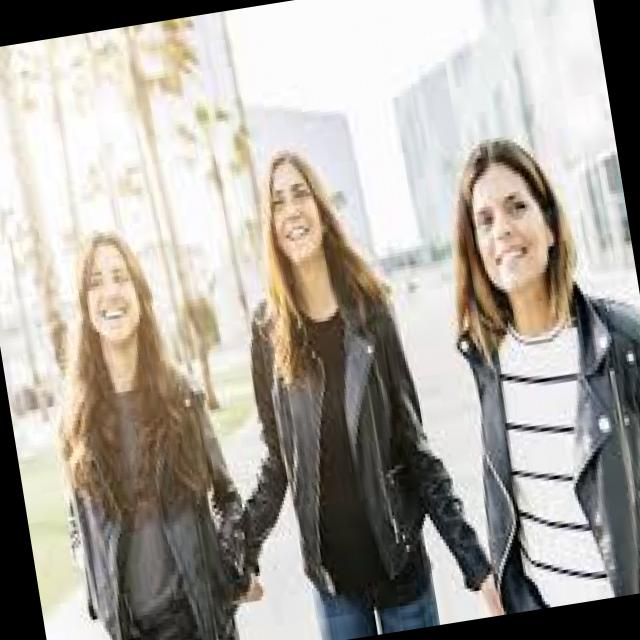Jacket: (220, 268, 472, 623), (37, 352, 280, 640), (438, 285, 640, 618)
